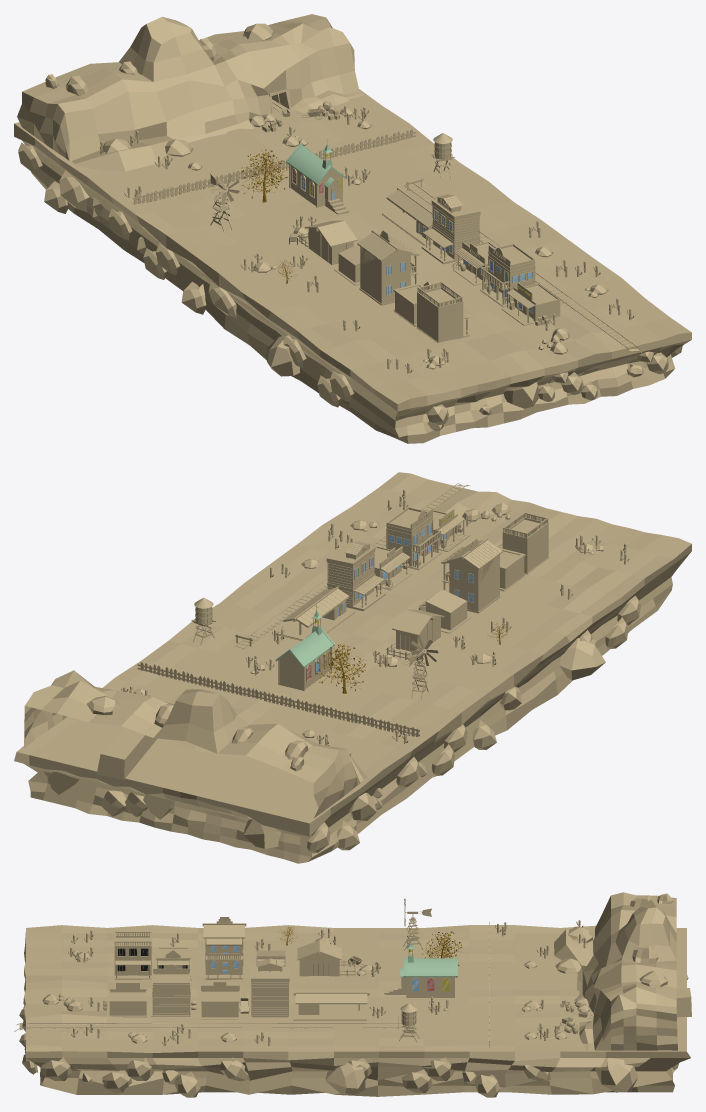
Rendered from Wild_West_Town_-_Low_Poly.glb.
3 renders of one model, top to bottom at view 1: azimuth 30°, elevation 25°; view 2: azimuth 150°, elevation 25°; view 3: azimuth 270°, elevation 25°, orthographic. The views are drawn at different scales.
Visible parts, largest first — view 1: Plane001_07 - Default_0, Plane003_11 - Default_0, Plane001_15 - Default_0, Plane001_03 - Default_0, Box007_13 - Default_0, Box002_06 - Default_0, Box001_11 - Default_0, Box010_08 - Default_0, Box004_23 - Default_0, Plane001_09 - Default_0, Object003_14 - Default_0, Box027_23 - Default_0 (+7 smaller); view 2: Plane001_07 - Default_0, Plane003_11 - Default_0, Plane001_15 - Default_0, Plane001_03 - Default_0, Box002_06 - Default_0, Box007_13 - Default_0, Box001_11 - Default_0, Box010_08 - Default_0, Box004_23 - Default_0, Box662_03 - Default_0, Box009_16 - Default_0, Box011_09 - Default_0 (+6 smaller); view 3: Plane001_07 - Default_0, Plane003_11 - Default_0, Plane001_15 - Default_0, Plane001_03 - Default_0, Box001_11 - Default_0, Box004_23 - Default_0, Box003_06 - Default_0, Box010_08 - Default_0, Object003_14 - Default_0, Box655_03 - Default_0, Box021_16 - Default_0, Box007_13 - Default_0 (+18 smaller).
Boxes of the visible parts, <box> form: Plane001_07 - Default_0: <box>14,89,691,411</box>; Plane003_11 - Default_0: <box>17,14,363,171</box>; Plane001_15 - Default_0: <box>30,161,675,443</box>; Plane001_03 - Default_0: <box>22,140,690,417</box>; Box007_13 - Default_0: <box>417,286,463,342</box>; Box002_06 - Default_0: <box>360,247,410,303</box>; Box001_11 - Default_0: <box>431,195,480,259</box>; Box010_08 - Default_0: <box>304,220,357,264</box>; Box004_23 - Default_0: <box>488,244,535,302</box>; Plane001_09 - Default_0: <box>38,156,506,420</box>; Object003_14 - Default_0: <box>286,143,345,185</box>; Box027_23 - Default_0: <box>386,189,432,228</box>; Plane001_07 - Default_0: <box>14,472,691,836</box>; Plane003_11 - Default_0: <box>24,670,367,817</box>; Plane001_15 - Default_0: <box>28,577,672,863</box>; Plane001_03 - Default_0: <box>24,551,691,836</box>; Box002_06 - Default_0: <box>450,555,499,611</box>; Box007_13 - Default_0: <box>502,517,548,572</box>; Box001_11 - Default_0: <box>326,542,375,606</box>; Box010_08 - Default_0: <box>392,609,444,652</box>; Box004_23 - Default_0: <box>386,507,433,566</box>; Box662_03 - Default_0: <box>559,638,605,680</box>; Box009_16 - Default_0: <box>425,589,467,630</box>; Box011_09 - Default_0: <box>280,649,330,690</box>; Plane001_07 - Default_0: <box>23,925,690,1060</box>; Plane003_11 - Default_0: <box>554,892,691,1050</box>; Plane001_15 - Default_0: <box>39,1067,674,1096</box>; Plane001_03 - Default_0: <box>24,992,690,1083</box>; Box001_11 - Default_0: <box>250,966,289,1014</box>; Box004_23 - Default_0: <box>152,972,190,1015</box>; Box003_06 - Default_0: <box>201,982,239,1017</box>; Box010_08 - Default_0: <box>297,940,341,976</box>; Object003_14 - Default_0: <box>403,958,457,977</box>; Box655_03 - Default_0: <box>595,1058,638,1092</box>; Box021_16 - Default_0: <box>293,1003,366,1020</box>; Box007_13 - Default_0: <box>114,935,151,975</box>.
Size of the model in its own units: 3196 by 1334 by 6472.
Materials: 10 (5 with a texture image).
